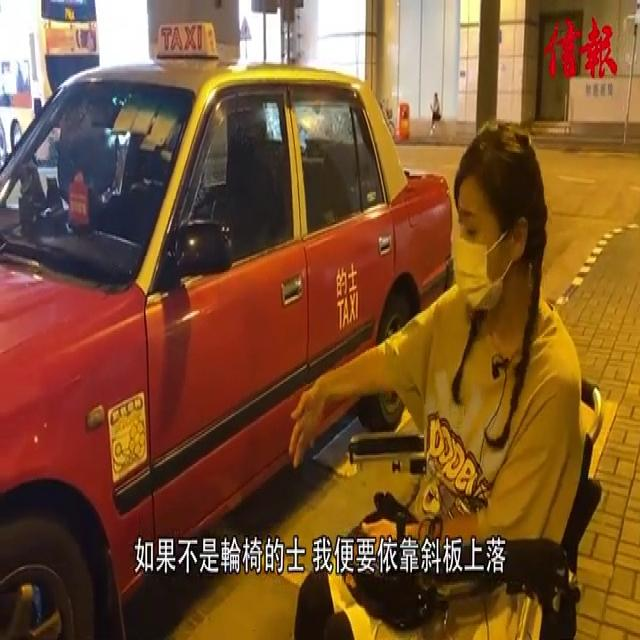wheelchairs: (342, 367, 608, 640)
